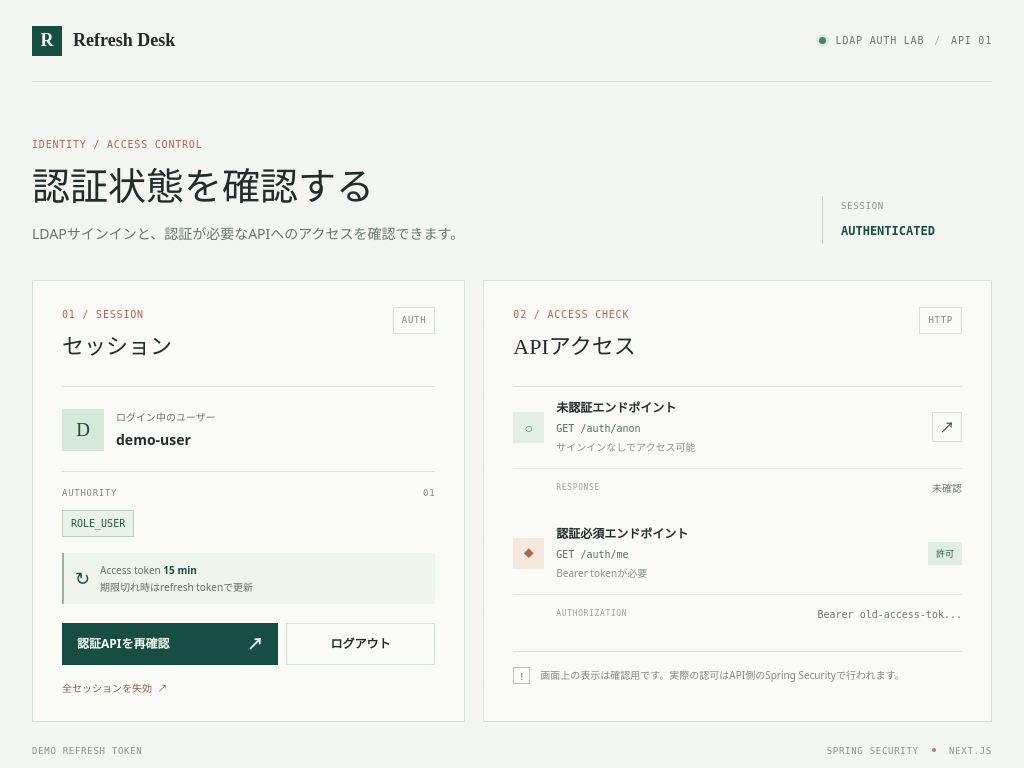
signOutAll retry › saves rotated tokens before retrying once with the new access token
Expected: the text "AUTHENTICATED" is shown, [841,224,935,238]
Click the button "全セッションを失効 ↗" at (108, 688), box [62,673,435,696]
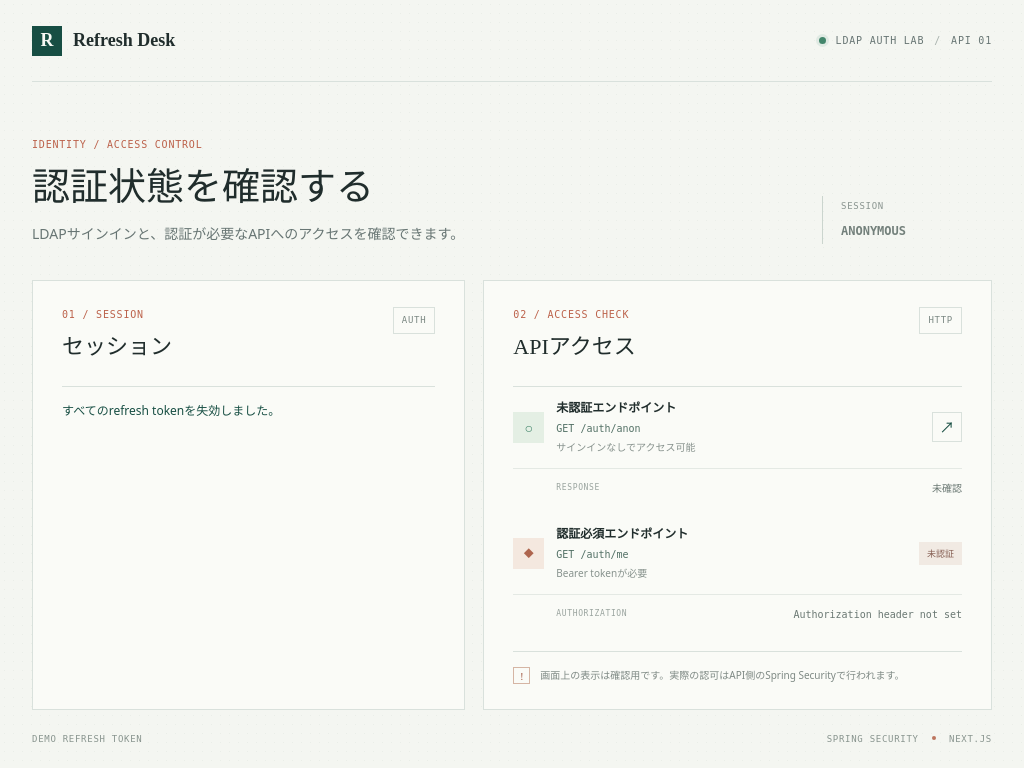
Expected: the text "ANONYMOUS" is shown, [841,224,906,238]
